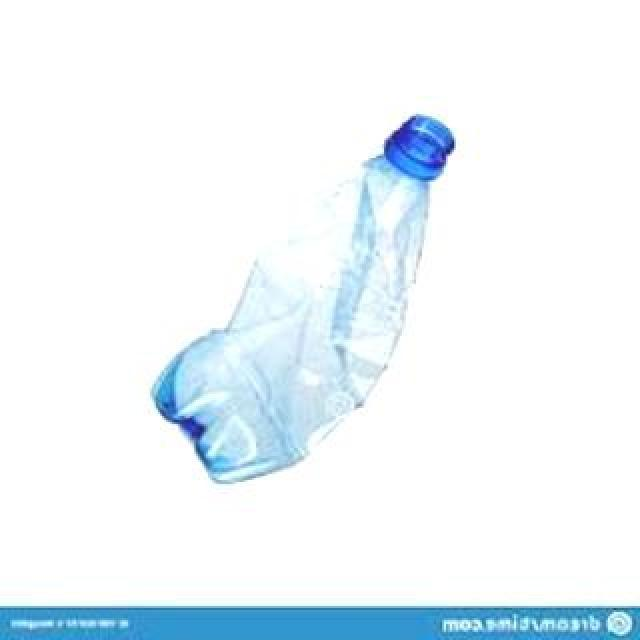Pet_Bottle: (149, 104, 463, 492)
